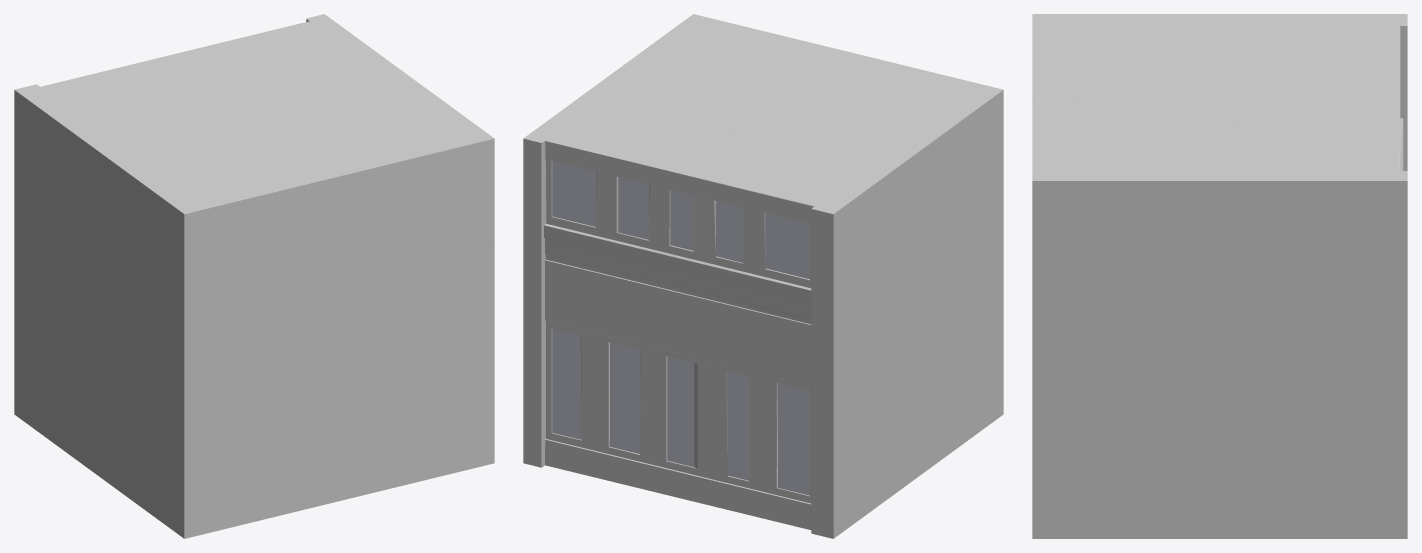
File: Upper_Wall.fbx
3 views of the same model, side by side, from view 1: azimuth 30°, elevation 25°; view 2: azimuth 150°, elevation 25°; view 3: azimuth 270°, elevation 25° (orthographic). The views are drawn at different scales.
Parts seen in each view (by area): view 1: Upper Wall; view 2: Upper Wall; view 3: Upper Wall.
Boxes of the visible parts, box(x1,y1,x2,y2) form: Upper Wall: box(14, 14, 494, 538); Upper Wall: box(523, 14, 1003, 538); Upper Wall: box(1032, 14, 1407, 538).
Bounding box in the file's own units: 95.02 × 100 × 100.
